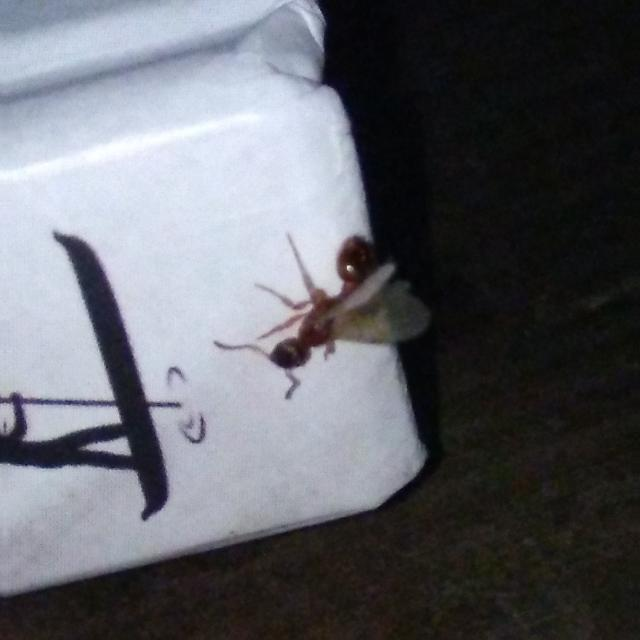Myrmica: (229, 214, 403, 384)
